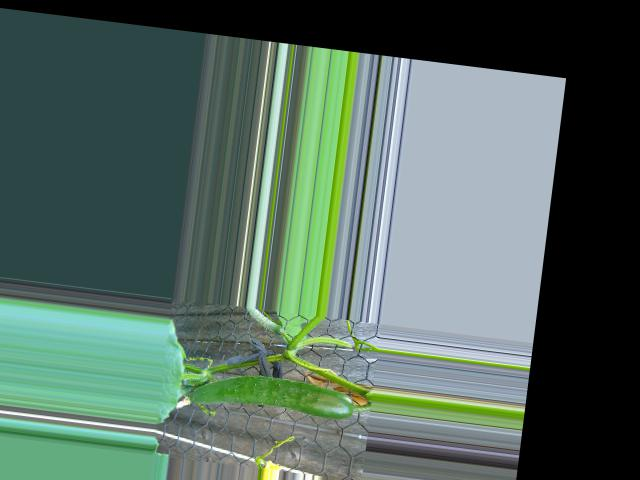cucumber: (190, 366, 356, 422)
